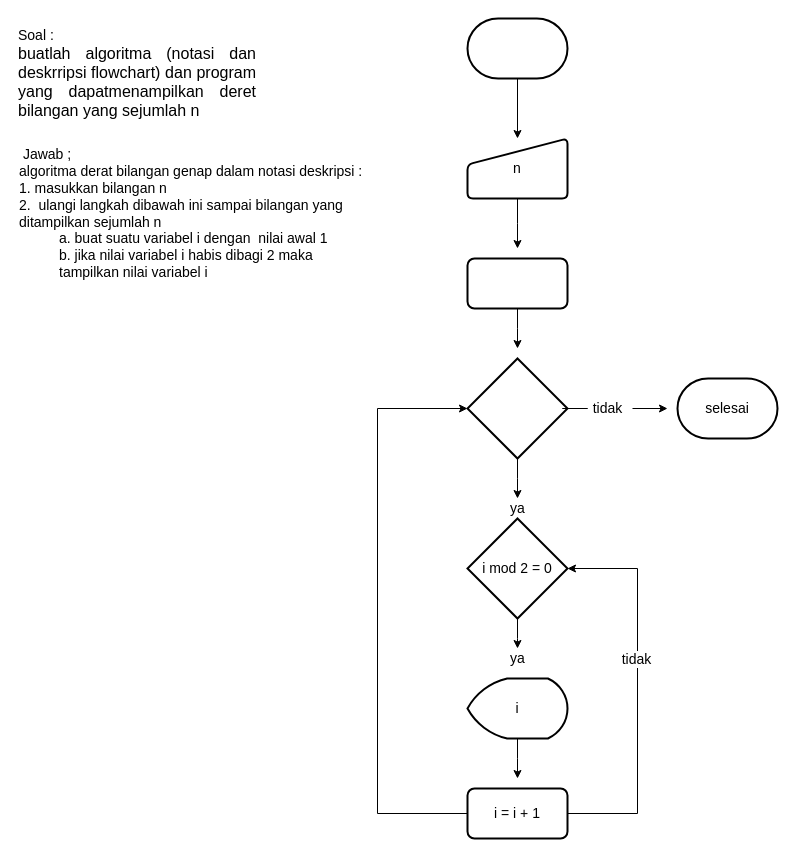
Image size: 795x856. Some labels were removed from this diagram. Here are the shapes that lost their labels. From the top down, the box of each, then its label:
(466, 17, 568, 79): mulai
(466, 257, 568, 309): i = 1
(466, 357, 568, 459): i <= 2*n
